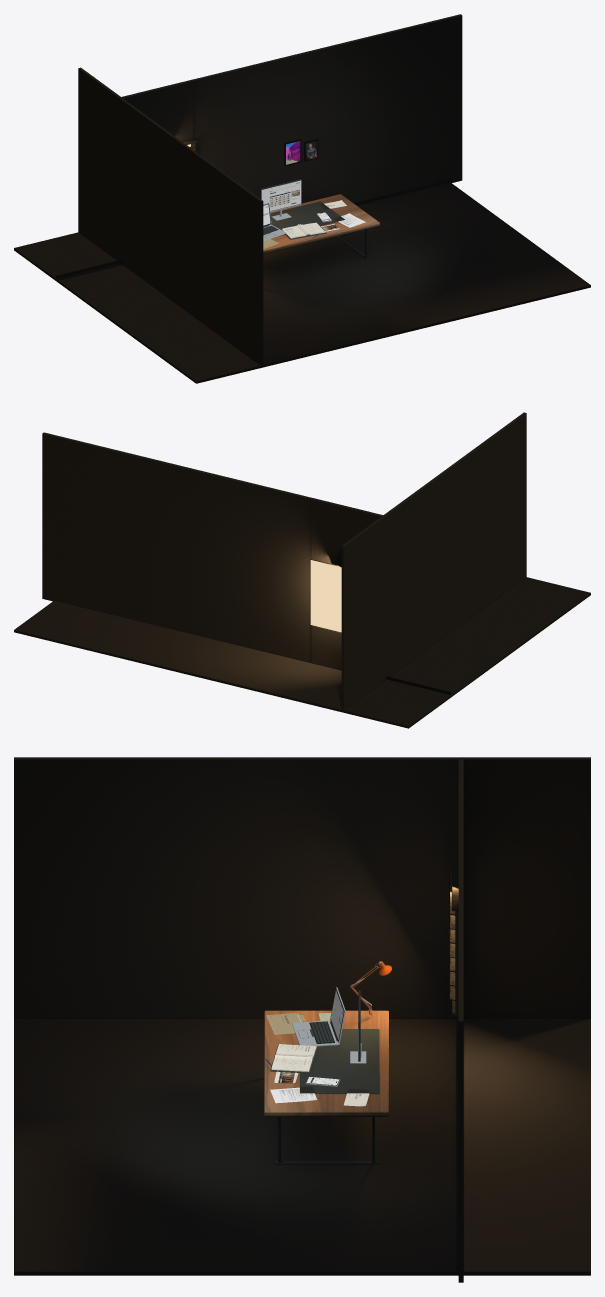
File: office.glb
3 views of the same model, one above another, from view 1: azimuth 30°, elevation 25°; view 2: azimuth 150°, elevation 25°; view 3: azimuth 270°, elevation 25° (orthographic). The views are drawn at different scales.
Parts seen in each view (by area): view 1: architecture-mesh, desk-mesh, novalens-mesh, sketchbook-mesh; view 2: architecture-mesh; view 3: architecture-mesh, desk-mesh, forma-mesh, sketchbook-mesh.
Part boxes in pixels (bbox=[...]): architecture-mesh: bbox=[14, 14, 590, 383]; desk-mesh: bbox=[263, 194, 379, 259]; novalens-mesh: bbox=[260, 179, 301, 220]; sketchbook-mesh: bbox=[281, 222, 326, 239]; architecture-mesh: bbox=[14, 412, 590, 728]; architecture-mesh: bbox=[14, 757, 590, 1282]; desk-mesh: bbox=[264, 1010, 388, 1164]; forma-mesh: bbox=[292, 987, 345, 1046]; sketchbook-mesh: bbox=[270, 1044, 317, 1073].
Size of the model in its own units: 6.18 by 2.42 by 4.8.
35 materials, 26 textured.
